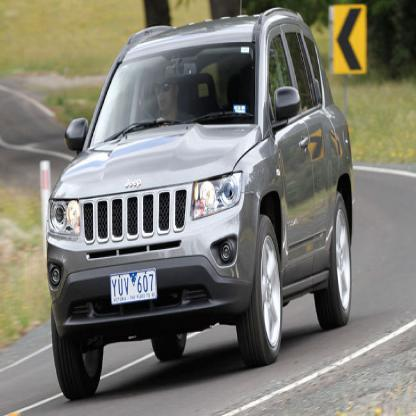Vehicle: (48, 6, 353, 401)
